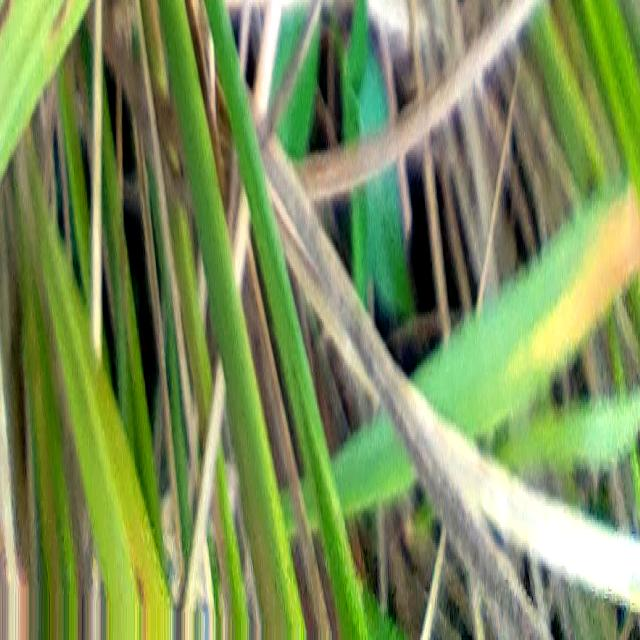NBS: (51, 0, 69, 32), (0, 0, 14, 34)
